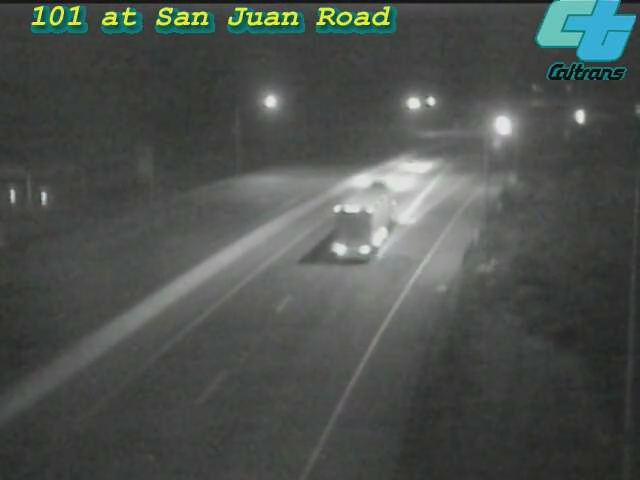vehicle: (369, 127, 449, 207), (340, 145, 420, 225), (322, 188, 402, 268), (479, 100, 529, 150), (553, 92, 603, 142)
